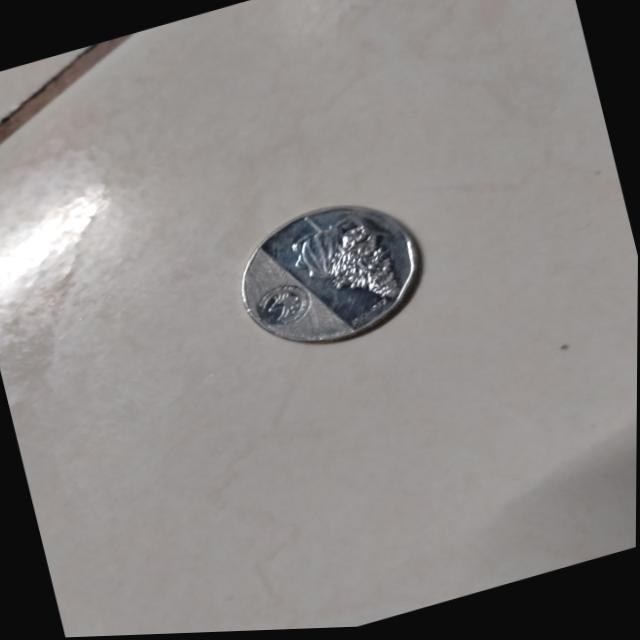10_New_Back: (237, 200, 410, 344)
